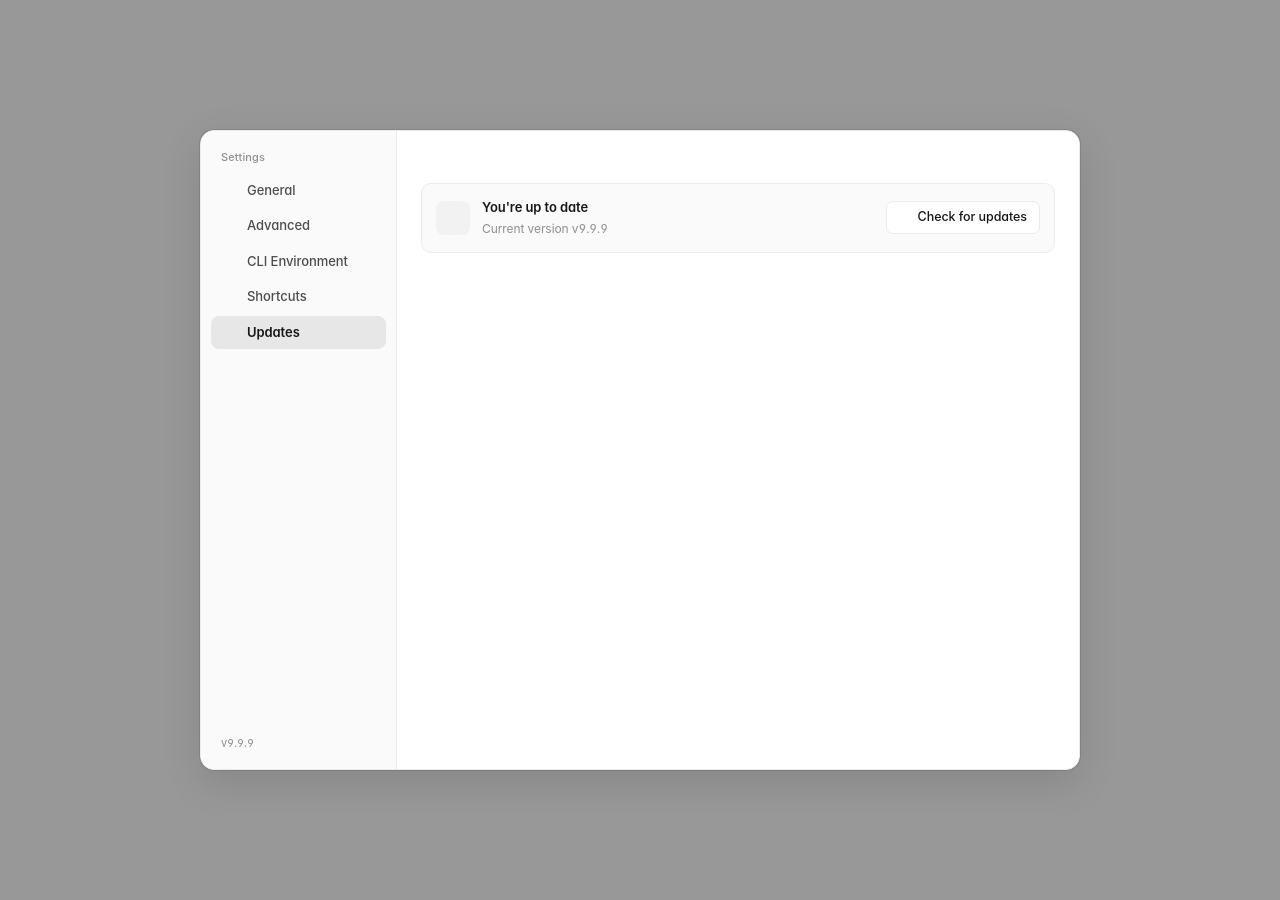
Scenario: SettingsModal › reports when an update is available
Click the button "Check for updates" at (963, 218), box [886,201,1040,234]
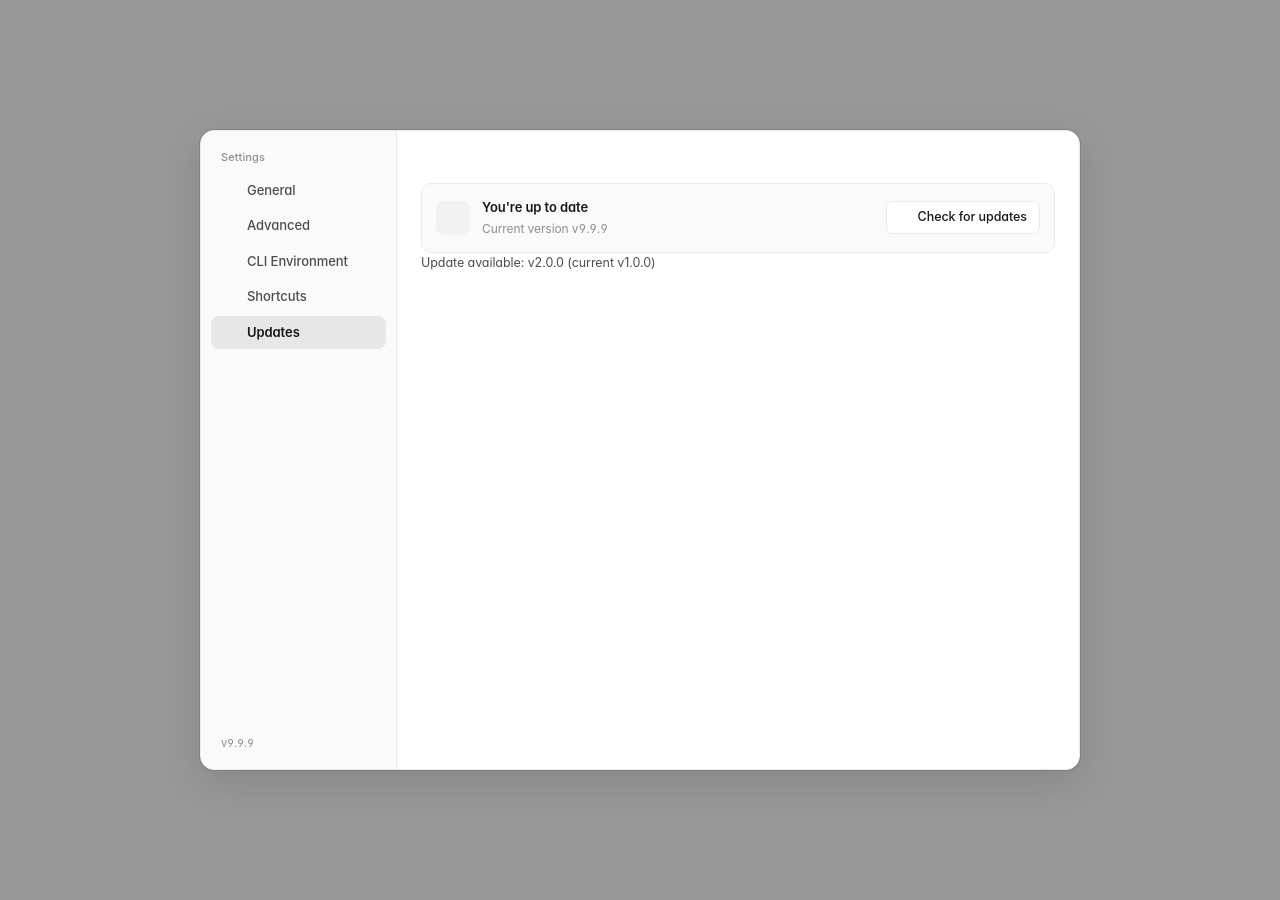
Now the text "2.0.0" is shown, box [421,254,656,270]
